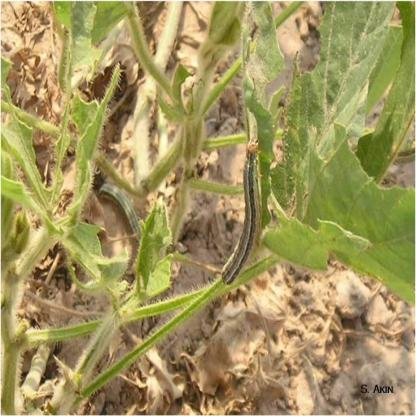armyworm: (221, 138, 261, 286), (96, 175, 150, 265)
